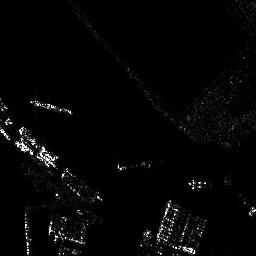ship: (28, 99, 73, 115), (116, 160, 152, 172)
